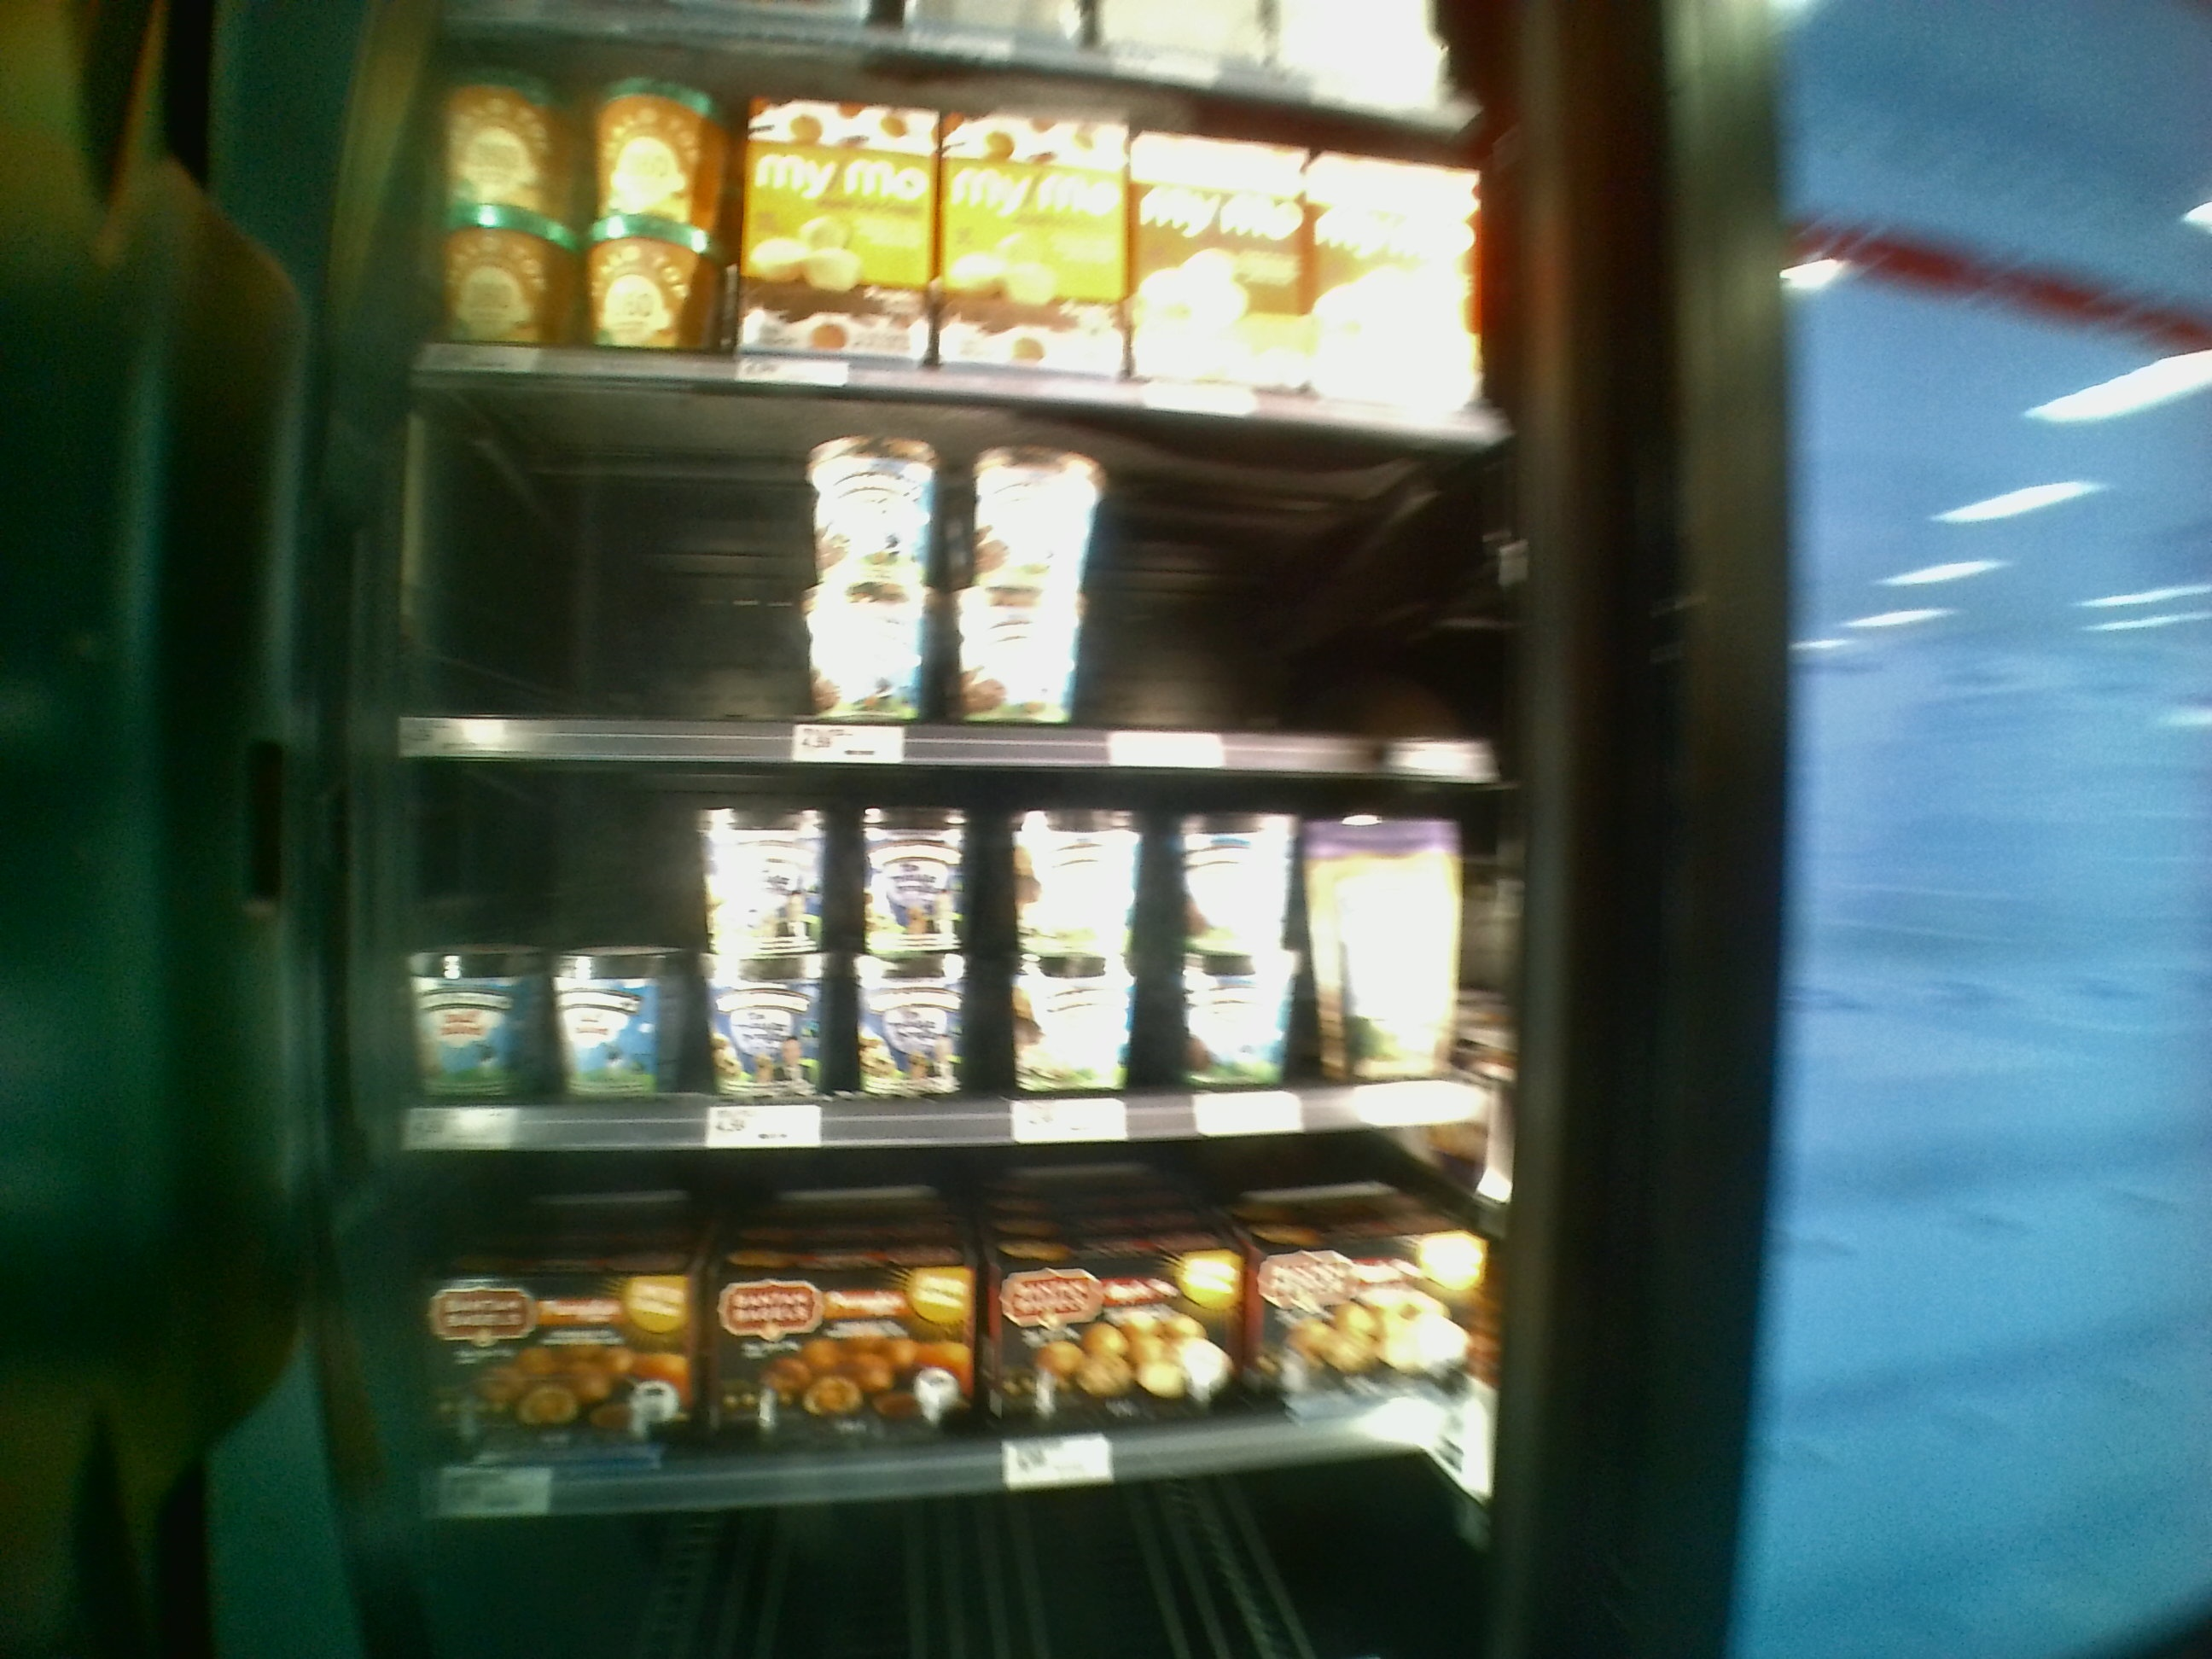shelf: (402, 357, 1491, 753), (392, 730, 1486, 1112), (387, 1124, 1489, 1438)
